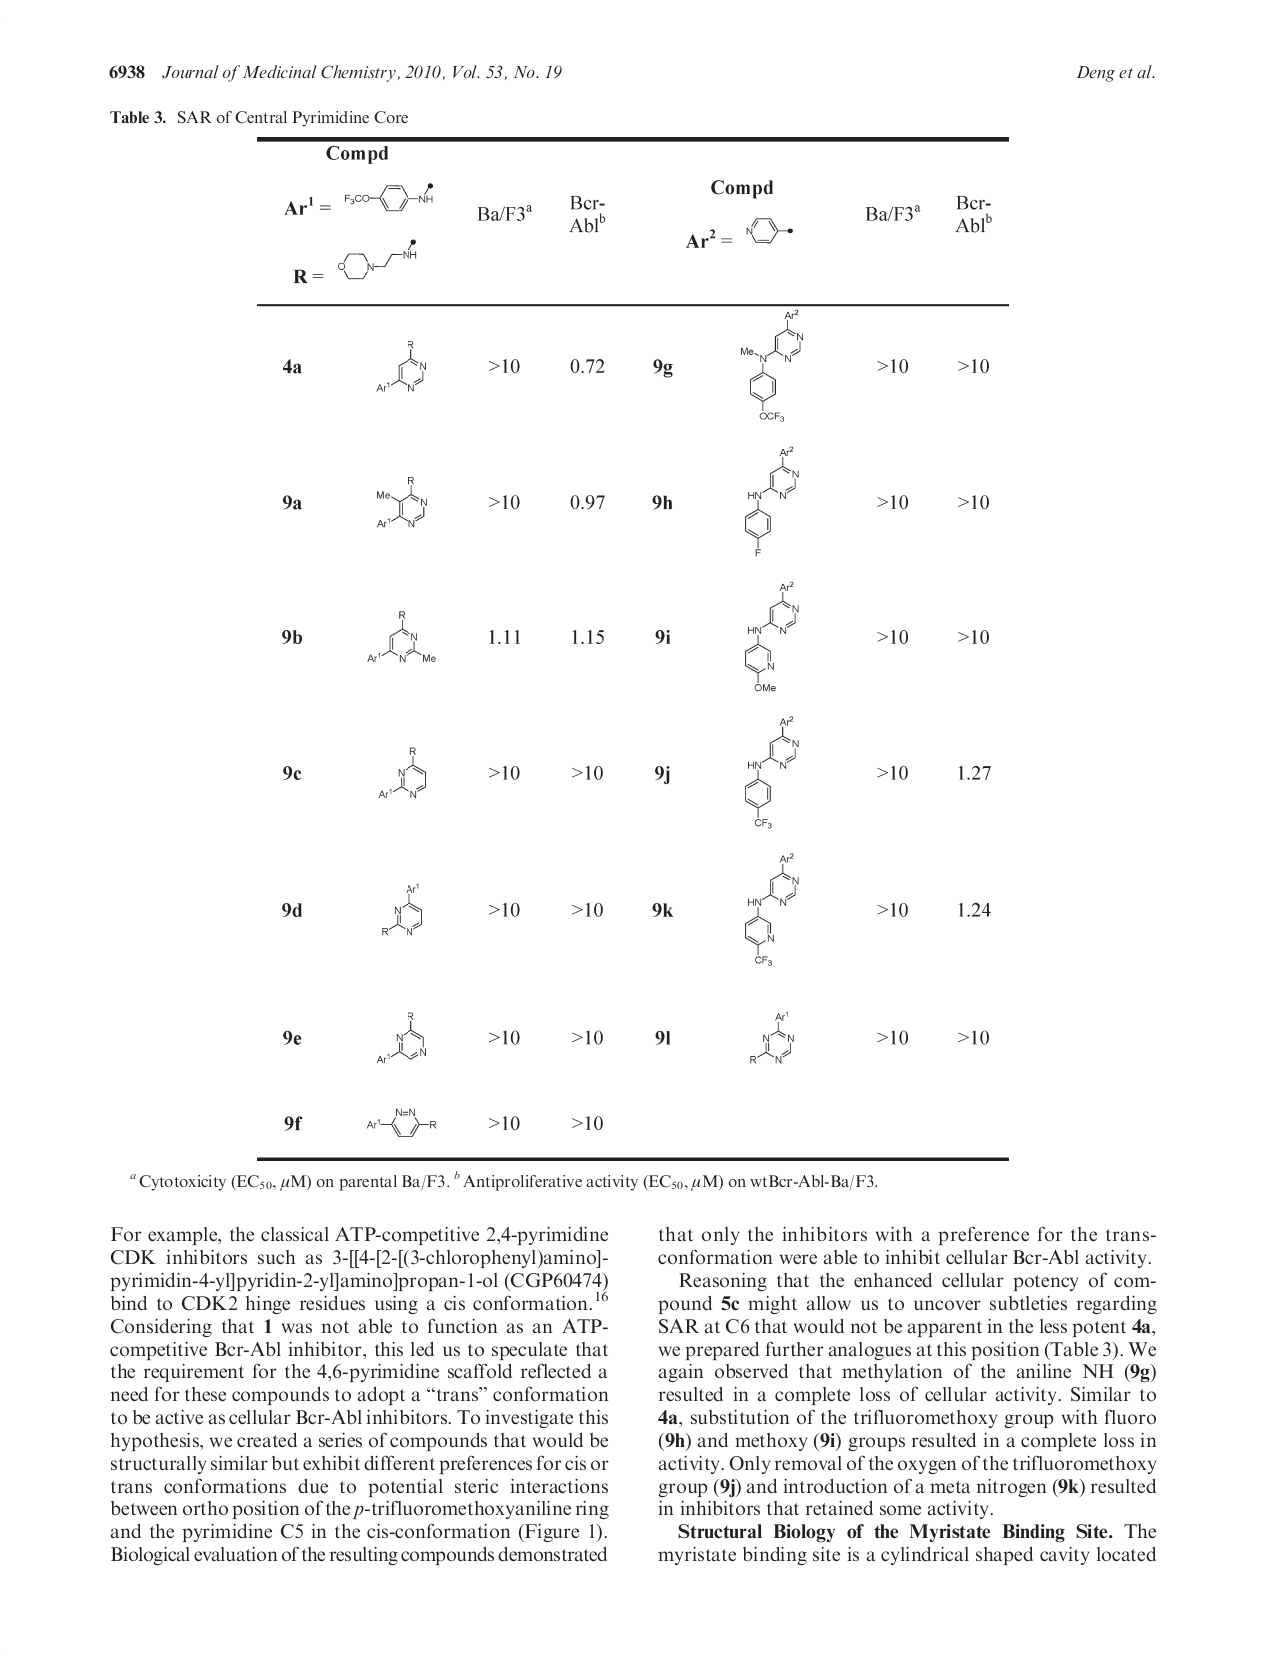exist_molecular: (739, 309, 805, 423), (743, 714, 802, 830), (743, 444, 801, 559), (743, 580, 801, 694), (743, 852, 801, 965), (366, 609, 438, 664), (336, 237, 419, 281), (375, 338, 427, 395), (375, 475, 428, 529), (344, 181, 438, 211), (375, 1012, 428, 1065), (379, 746, 428, 801), (749, 1009, 795, 1065), (380, 882, 424, 938), (367, 1106, 438, 1138), (746, 215, 795, 245)
